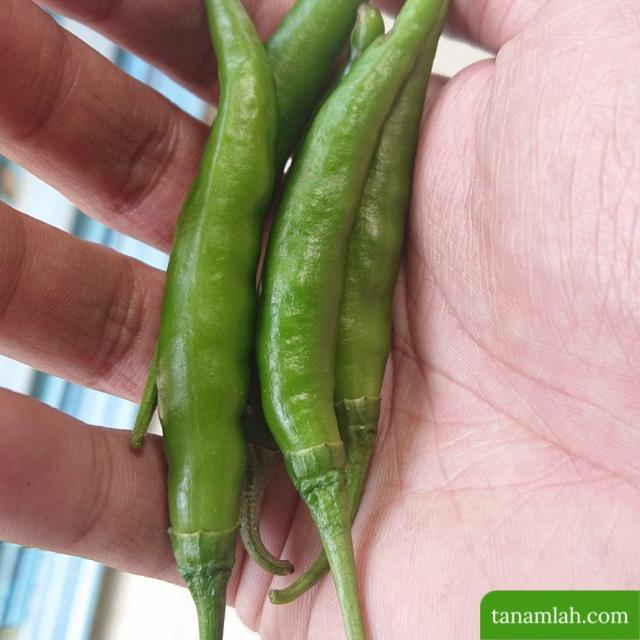green chilli: (257, 0, 448, 640), (130, 0, 277, 640), (334, 22, 443, 519)
